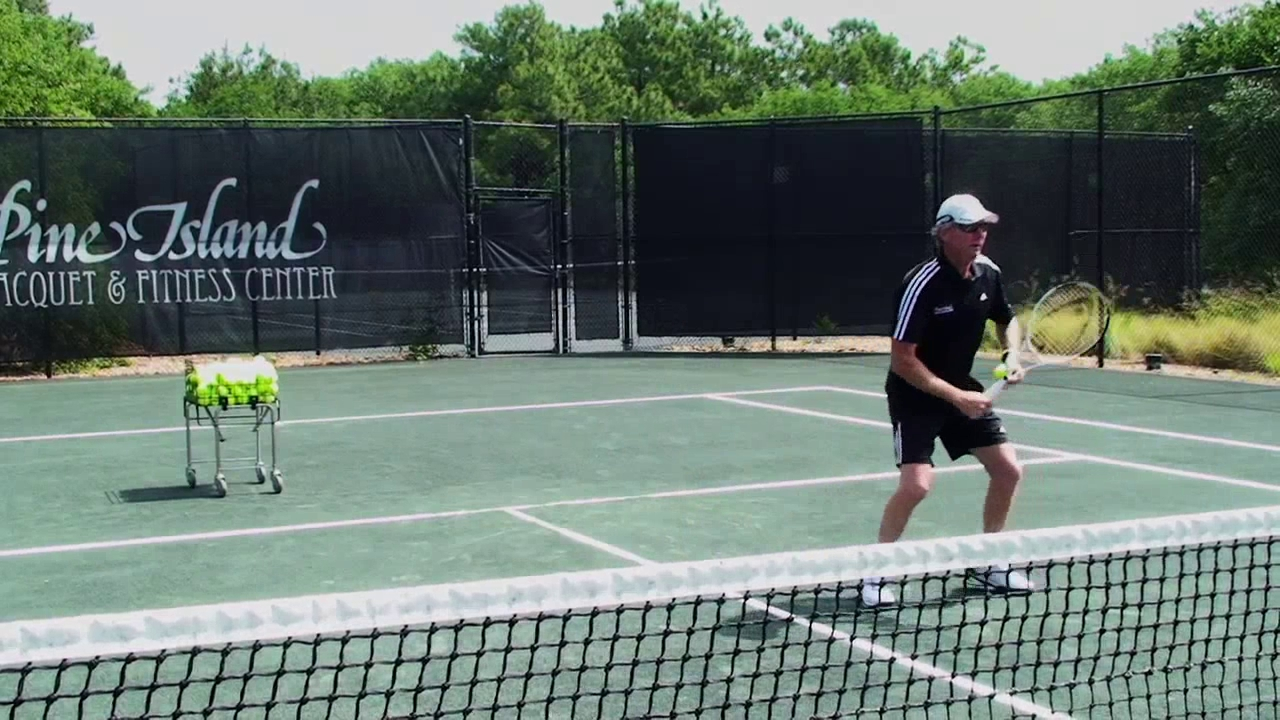person: (859, 194, 1035, 606)
